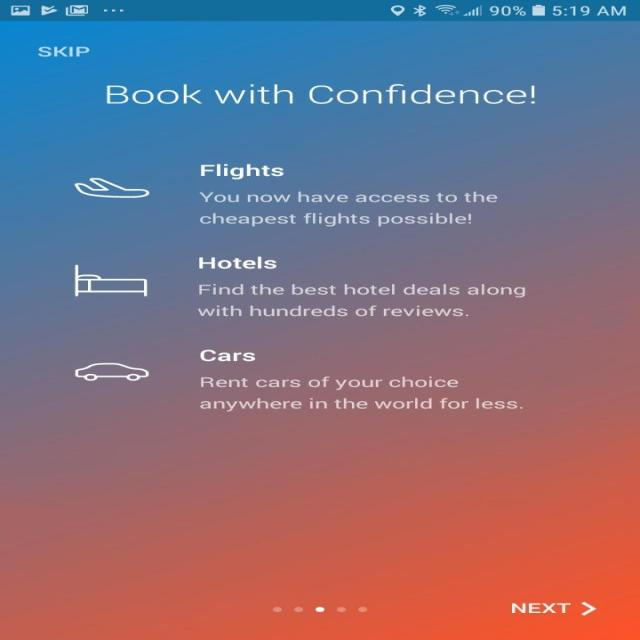Icon: (580, 601, 596, 615)
Image: (74, 264, 148, 297), (74, 178, 150, 198), (74, 362, 150, 381)
Text: (199, 376, 523, 411), (197, 284, 526, 316), (198, 191, 497, 226), (105, 83, 536, 105), (200, 163, 284, 180), (198, 256, 276, 269), (199, 349, 255, 361), (510, 602, 571, 613), (37, 46, 90, 57)
